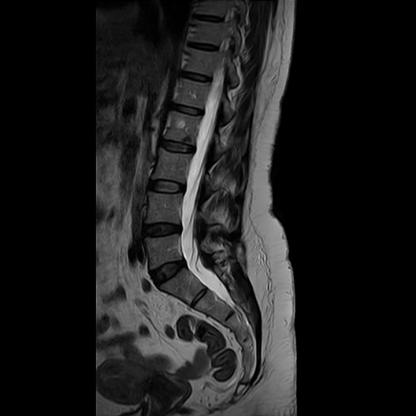Disc Bulgerotation: (146, 260, 195, 288), (140, 219, 187, 242)
